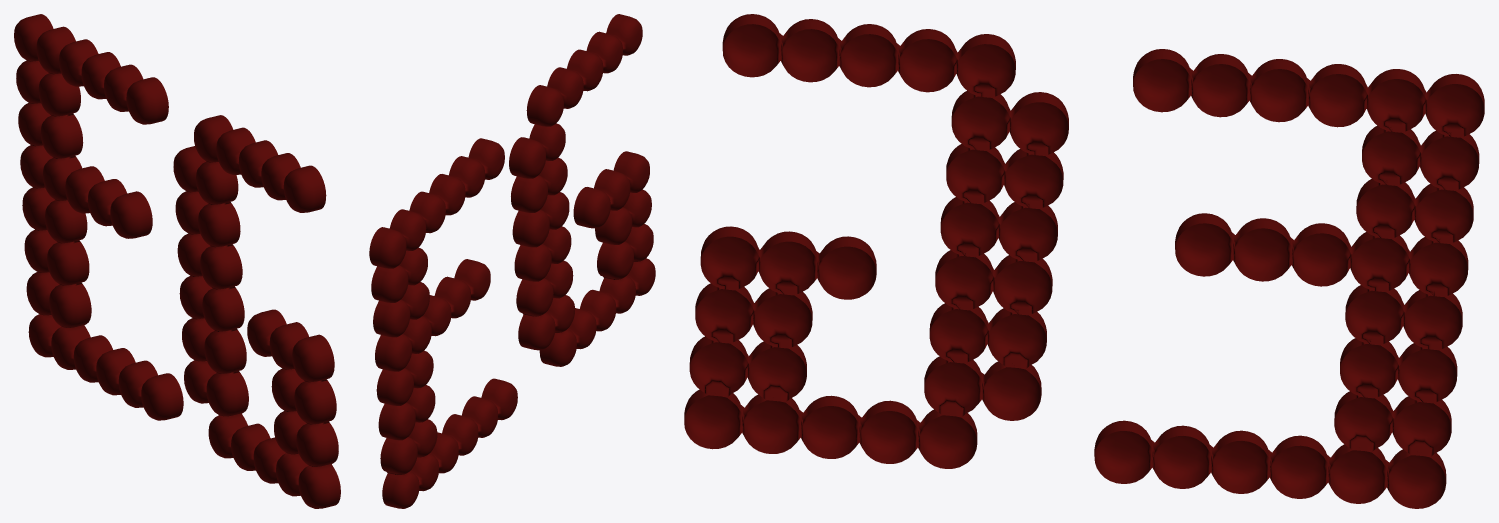
File: SM_Floor_Number_EG_0_5_0_5_0_5.obj
The picture shows the model from 3 angles, left to right: view 1: azimuth 30°, elevation 25°; view 2: azimuth 150°, elevation 25°; view 3: azimuth 270°, elevation 25°; orthographic projection. The views are drawn at different scales.
Visible parts, largest first — view 1: SM_Floor_Number_EG_0_5_0_5_0_5; view 2: SM_Floor_Number_EG_0_5_0_5_0_5; view 3: SM_Floor_Number_EG_0_5_0_5_0_5.
Part boxes in pixels (left/top/right/bottom): SM_Floor_Number_EG_0_5_0_5_0_5: left=14, top=14, right=340, bottom=508; SM_Floor_Number_EG_0_5_0_5_0_5: left=369, top=14, right=655, bottom=508; SM_Floor_Number_EG_0_5_0_5_0_5: left=684, top=14, right=1484, bottom=508.
Size of the model in its own units: 0.00375 by 0.0532 by 0.0796.
